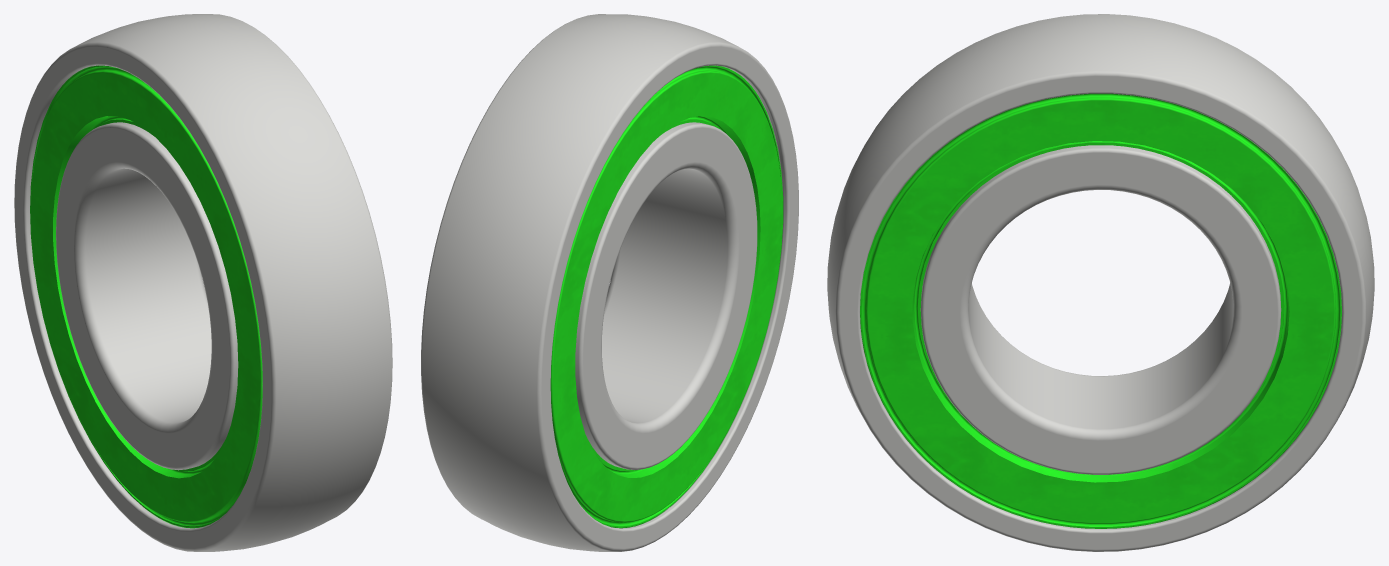
The picture shows the model from 3 angles, left to right: view 1: azimuth 30°, elevation 25°; view 2: azimuth 150°, elevation 25°; view 3: azimuth 270°, elevation 25°; orthographic projection.
Parts seen in each view (by area): view 1: matte platinum, texture-2; view 2: matte platinum, texture-2; view 3: matte platinum, texture-2.
Part boxes in pixels (<box>): matte platinum: <box>14,14,392,551</box>; texture-2: <box>30,65,262,528</box>; matte platinum: <box>421,14,798,551</box>; texture-2: <box>550,65,783,528</box>; matte platinum: <box>827,14,1374,551</box>; texture-2: <box>860,93,1341,528</box>.
Size of the model in its own units: 0.016 by 0.062 by 0.062.
Materials: 6 (2 with a texture image).
